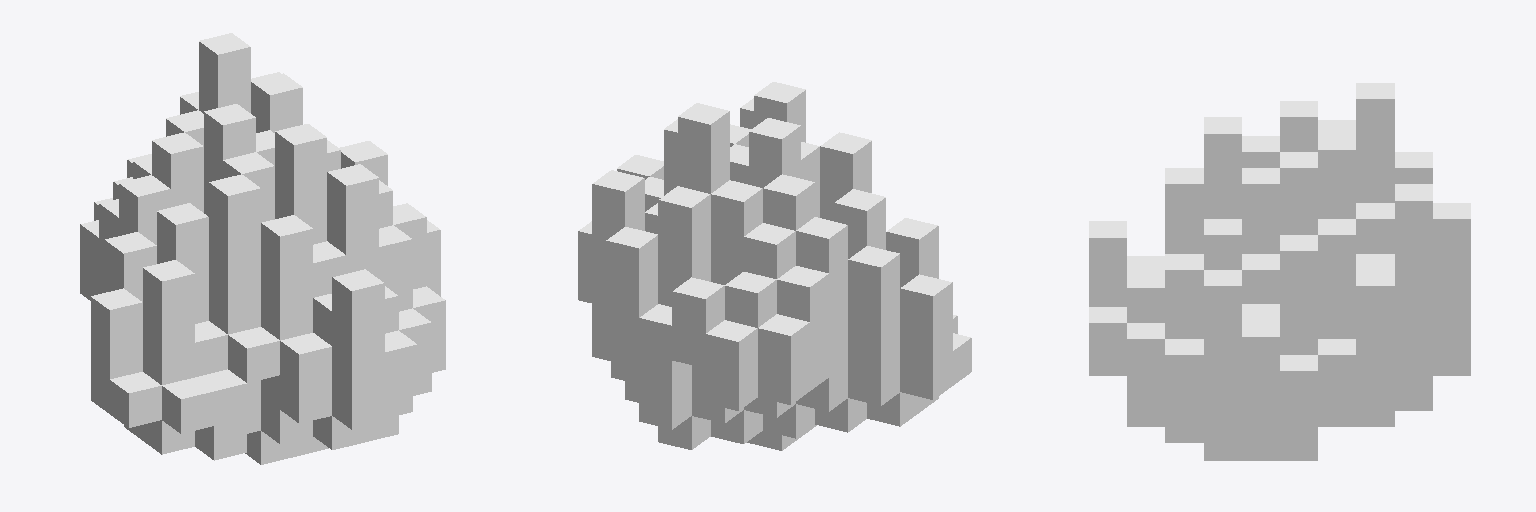
The model's file is CountrySide-1-Vegetation2.obj.
The picture shows the model from 3 angles: view 1: azimuth 30°, elevation 25°; view 2: azimuth 150°, elevation 25°; view 3: azimuth 270°, elevation 25°; orthographic projection.
Visible parts, largest first — view 1: Vegetation2; view 2: Vegetation2; view 3: Vegetation2.
Part boxes in pixels (left/top/right/bottom): Vegetation2: left=80, top=33, right=445, bottom=464; Vegetation2: left=578, top=82, right=971, bottom=450; Vegetation2: left=1089, top=83, right=1470, bottom=460.
Bounding box in the file's own units: 1 × 1 × 1.